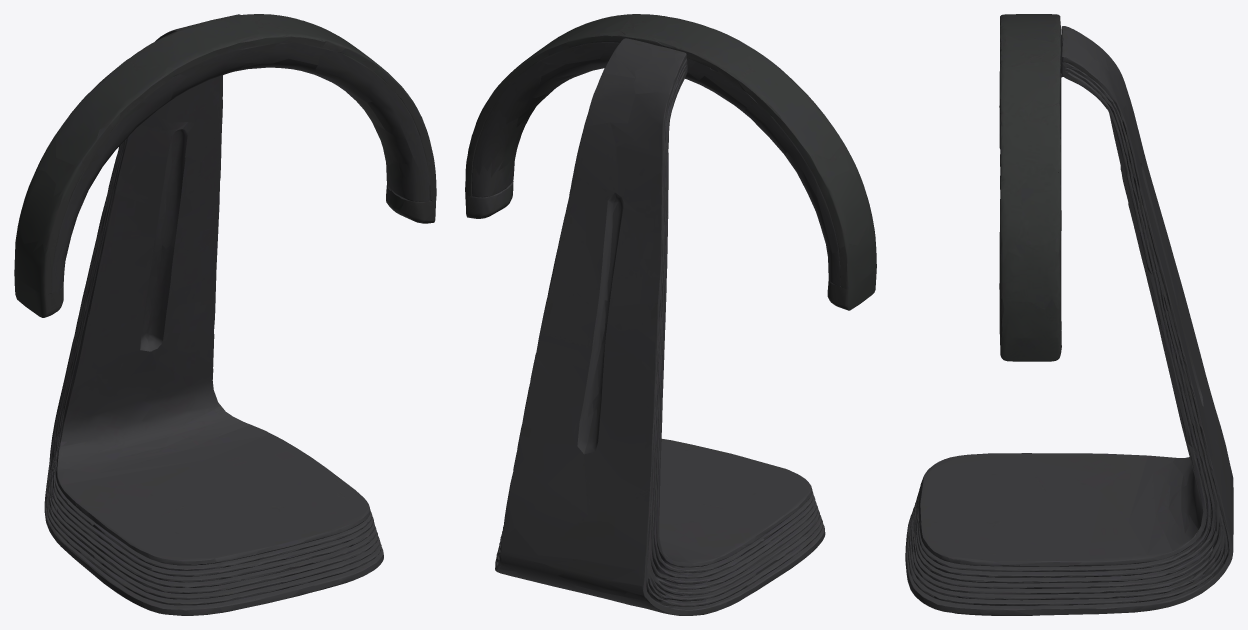
3 renders of one model, left to right at view 1: azimuth 30°, elevation 25°; view 2: azimuth 150°, elevation 25°; view 3: azimuth 270°, elevation 25°, orthographic. The views are drawn at different scales.
Bounding box in the file's own units: 1.51 × 1.9 × 1.09.
1 material, 1 textured.
